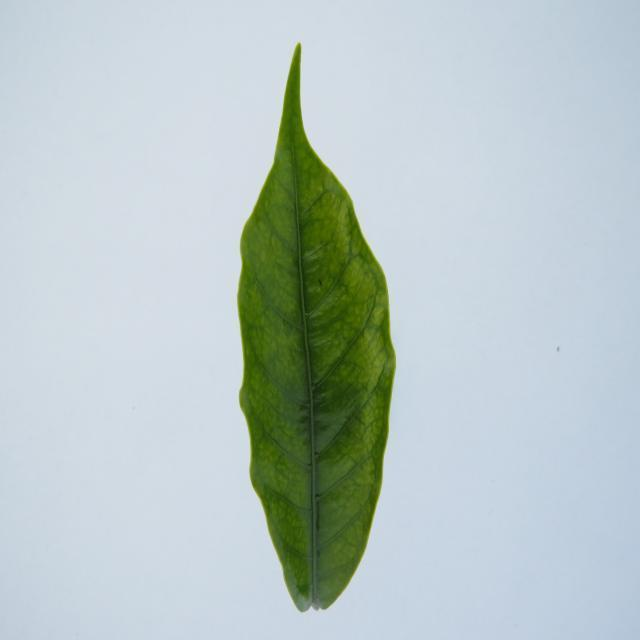DeficienciaNutricional-Hierro: (238, 43, 395, 612)
